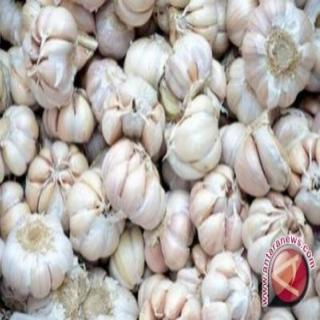Bawang Putih: (101, 136, 169, 232)
